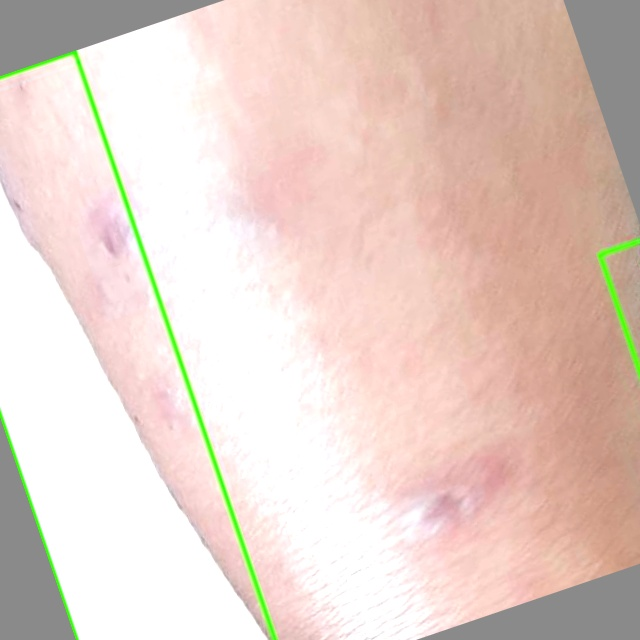Eczema: (0, 51, 274, 639)
